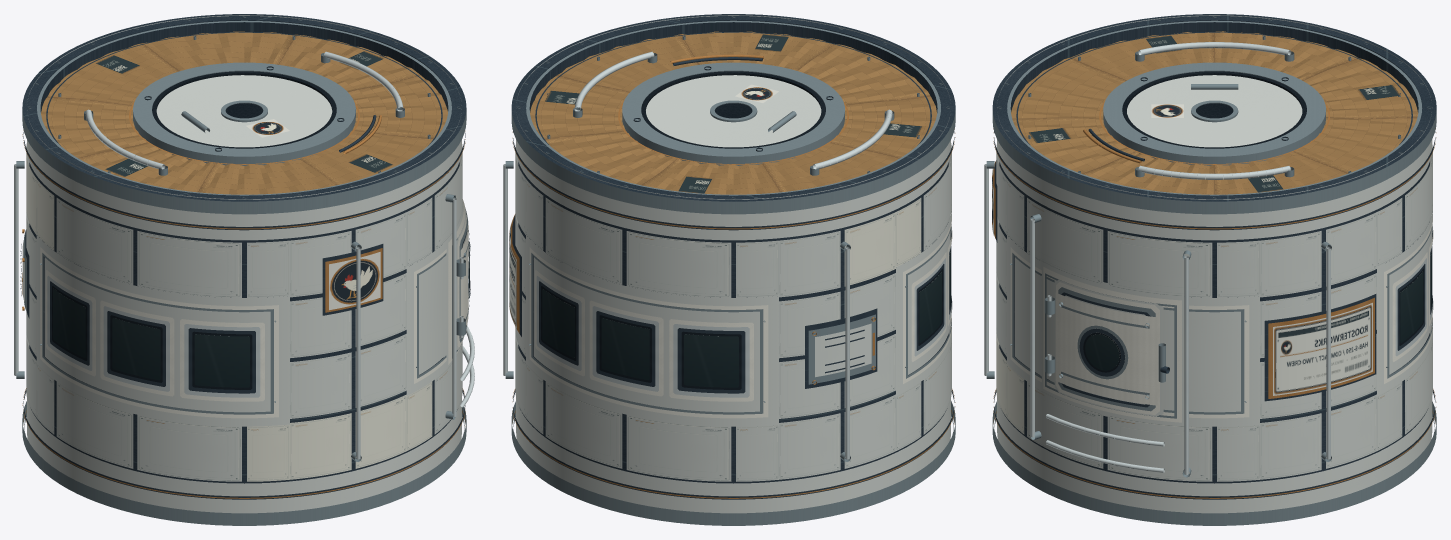
The model's file is RW_HABS_250_SideHatch.obj.
3 renders of one model, left to right at view 1: azimuth 30°, elevation 25°; view 2: azimuth 150°, elevation 25°; view 3: azimuth 270°, elevation 25°, orthographic.
Parts seen in each view (by area): view 1: RW_Ceramic, RW_Cladding, RW_Hubblanket, RW_Graphite, RW_Steel, RW_CladdingWhite, RW_White, RW_Rail, RW_GlassBase, RW_Black, RW_Bronze, RW_Crest (+1 smaller); view 2: RW_Cladding, RW_Ceramic, RW_Hubblanket, RW_Graphite, RW_Steel, RW_White, RW_GlassBase, RW_Rail, RW_CladdingWhite, RW_Black, RW_Bronze, RW_Detail (+1 smaller); view 3: RW_Ceramic, RW_Cladding, RW_Hubblanket, RW_Steel, RW_Graphite, RW_White, RW_Rail, RW_Label, RW_Bronze, RW_Black, RW_Detail, RW_CladdingWhite (+3 smaller).
Part boxes in pixels (bbox=[...]): RW_Ceramic: bbox=[22, 15, 465, 513]; RW_Cladding: bbox=[26, 143, 462, 481]; RW_Hubblanket: bbox=[41, 31, 447, 194]; RW_Graphite: bbox=[20, 14, 470, 499]; RW_Steel: bbox=[16, 16, 470, 525]; RW_CladdingWhite: bbox=[26, 155, 432, 481]; RW_White: bbox=[40, 199, 468, 418]; RW_Rail: bbox=[14, 51, 474, 459]; RW_GlassBase: bbox=[53, 289, 249, 387]; RW_Black: bbox=[52, 71, 470, 389]; RW_Bronze: bbox=[22, 101, 465, 498]; RW_Crest: bbox=[246, 119, 380, 310]; RW_Cladding: bbox=[515, 143, 951, 481]; RW_Ceramic: bbox=[516, 15, 951, 513]; RW_Hubblanket: bbox=[530, 31, 936, 194]; RW_Graphite: bbox=[511, 14, 955, 499]; RW_Steel: bbox=[505, 16, 955, 525]; RW_White: bbox=[529, 218, 952, 418]; RW_GlassBase: bbox=[542, 238, 951, 387]; RW_Rail: bbox=[503, 51, 952, 459]; RW_CladdingWhite: bbox=[844, 198, 921, 286]; RW_Black: bbox=[541, 71, 951, 389]; RW_Bronze: bbox=[511, 54, 955, 498]; RW_Detail: bbox=[544, 34, 922, 193]; RW_Ceramic: bbox=[997, 15, 1432, 513]; RW_Cladding: bbox=[996, 145, 1432, 481]; RW_Hubblanket: bbox=[1011, 31, 1418, 194]; RW_Steel: bbox=[986, 16, 1436, 525]; RW_Graphite: bbox=[992, 14, 1436, 499]; RW_White: bbox=[1010, 218, 1433, 422]; RW_Rail: bbox=[984, 42, 1433, 474]; RW_Label: bbox=[1273, 302, 1372, 395]; RW_Bronze: bbox=[993, 101, 1436, 498]; RW_Black: bbox=[1083, 71, 1432, 372]; RW_Detail: bbox=[1028, 35, 1400, 192]; RW_CladdingWhite: bbox=[996, 331, 1024, 434].
Size of the model in its own units: 2.49 by 1.98 by 2.5.
Materials: 14 (14 with a texture image).
